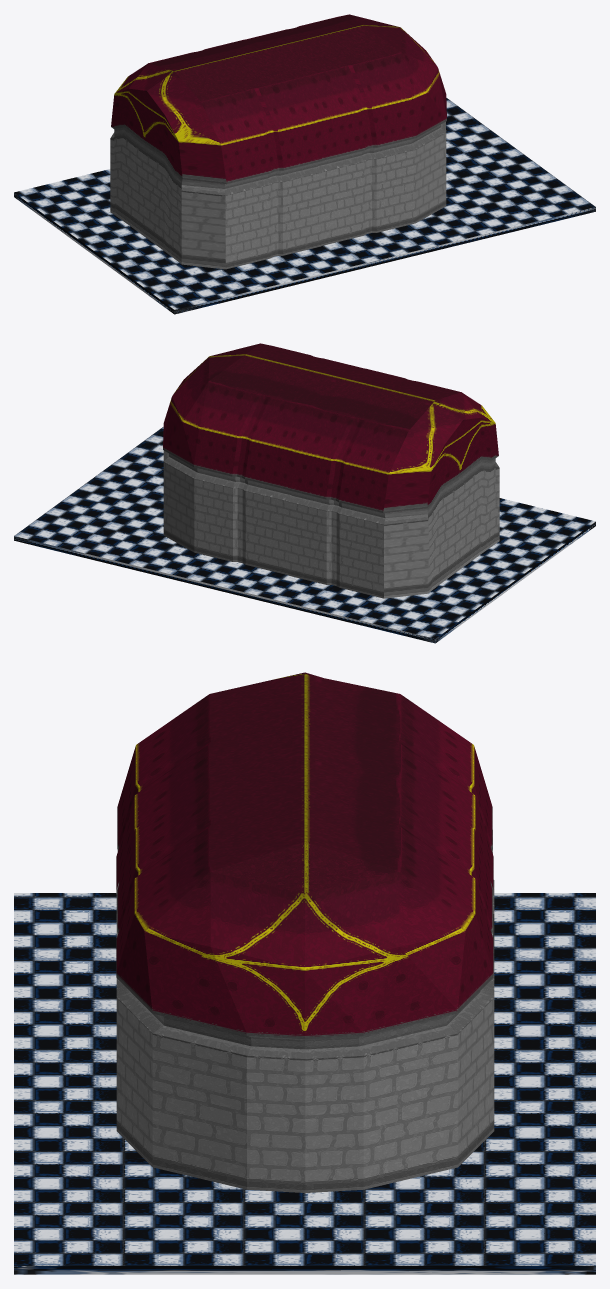
Rendered from manor_frame_6.fbx.
3 renders of one model, top to bottom at view 1: azimuth 30°, elevation 25°; view 2: azimuth 150°, elevation 25°; view 3: azimuth 270°, elevation 25°, orthographic. The views are drawn at different scales.
Visible parts, largest first — view 1: Icosphere.006; view 2: Icosphere.006; view 3: Icosphere.006.
Part boxes in pixels (bbox=[...]): Icosphere.006: bbox=[14, 14, 595, 314]; Icosphere.006: bbox=[14, 343, 595, 643]; Icosphere.006: bbox=[14, 672, 595, 1274].
Bounding box in the file's own units: 8081 × 3017 × 5329.
